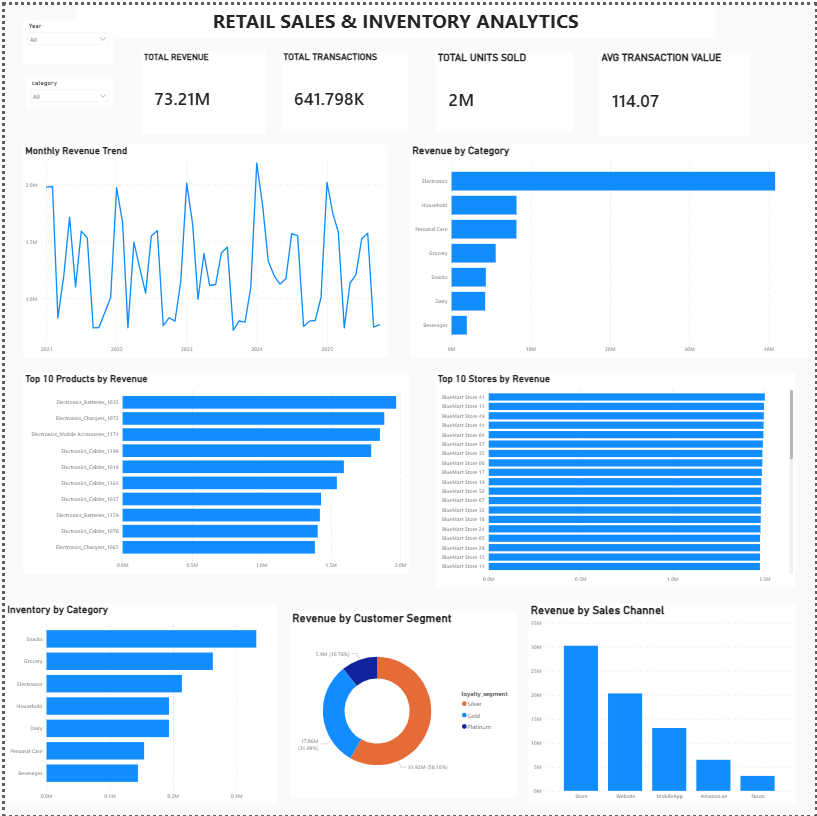

Layout of this report page (visuals, bound fields, positions):
{"tool":"powerbi","page":{"name":"Page 1","canvas":[1800,1800],"ordinal":0},"visuals":[{"type":"cardVisual","title":"TOTAL REVENUE","fields":{"Data":["Sum(retail_analytics fact_sales.total_value)"]},"box":[303.3,103.3,276.7,183.3],"z":0},{"type":"cardVisual","title":"TOTAL TRANSACTIONS","fields":{"Data":["CountNonNull(retail_analytics fact_sales.sale_id)"]},"box":[613.3,103.3,283.3,180],"z":1000},{"type":"cardVisual","title":"TOTAL UNITS SOLD","fields":{"Data":["Sum(retail_analytics fact_sales.quantity)"]},"box":[956.7,103.3,306.7,180],"z":2000},{"type":"cardVisual","title":"AVG TRANSACTION VALUE","fields":{"Data":["Avg(retail_analytics fact_sales.total_value)"]},"box":[1320,103.3,336.7,186.7],"z":3000},{"type":"lineChart","title":"Monthly Revenue Trend","fields":{"Y":["Sum(retail_analytics fact_sales.total_value)"],"Category":["retail_analytics fact_sales.sale_date.Variation.Date Hierarchy.Year","retail_analytics fact_sales.sale_date.Variation.Date Hierarchy.Month"]},"box":[41.2,308.8,809.7,473.5],"z":4000},{"type":"clusteredBarChart","title":"Revenue by Category","fields":{"Category":["retail_analytics dim_sku.category"],"Y":["Sum(retail_analytics fact_sales.total_value)"]},"box":[898.9,308.8,902.3,473.5],"z":5000},{"type":"clusteredBarChart","title":"Top 10 Products by Revenue","fields":{"Category":["retail_analytics dim_sku.sku_name"],"Y":["Sum(retail_analytics fact_sales.total_value)"]},"box":[41.2,816.5,857.7,446],"z":6000},{"type":"clusteredBarChart","title":"Top 10 Stores by Revenue","fields":{"Category":["retail_analytics dim_store.store_name"],"Y":["Sum(retail_analytics fact_sales.total_value)"]},"box":[957.2,816.5,799.4,476.9],"z":7000},{"type":"donutChart","title":"Revenue by Customer Segment","fields":{"Category":["retail_analytics dim_customer.loyalty_segment"],"Y":["Sum(retail_analytics fact_sales.total_value)"]},"box":[634.7,1348.3,504.3,415.1],"z":8000},{"type":"clusteredColumnChart","title":"Revenue by Sales Channel","fields":{"Category":["retail_analytics fact_sales.channel"],"Y":["Sum(retail_analytics fact_sales.total_value)"]},"box":[1163,1331.2,593.5,446],"z":9000},{"type":"clusteredBarChart","title":"Inventory by Category","fields":{"Category":["retail_analytics dim_sku.category"],"Y":["Sum(retail_analytics fact_inventory.stock_on_hand)"]},"box":[0,1331.2,603.8,446],"z":10000},{"type":"textbox","box":[157.8,0,1423.8,75.5],"z":11000},{"type":"slicer","fields":{"Values":["retail_analytics fact_sales.sale_date.Variation.Date Hierarchy.Year"]},"box":[40,33.3,200,96.7],"z":11001},{"type":"slicer","fields":{"Values":["retail_analytics dim_sku.category"]},"box":[46.7,160,193.3,70],"z":11002}]}

Visuals, with their boxes in screenshot pixels (x1, y1, x2, y2), scaled from the page's 1800x1800 canvas onto the 817x816 screenshot:
"TOTAL REVENUE" cardVisual: {"left": 138, "top": 47, "right": 263, "bottom": 130}
"TOTAL TRANSACTIONS" cardVisual: {"left": 278, "top": 47, "right": 407, "bottom": 128}
"TOTAL UNITS SOLD" cardVisual: {"left": 434, "top": 47, "right": 573, "bottom": 128}
"AVG TRANSACTION VALUE" cardVisual: {"left": 599, "top": 47, "right": 752, "bottom": 131}
"Monthly Revenue Trend" lineChart: {"left": 19, "top": 140, "right": 386, "bottom": 355}
"Revenue by Category" clusteredBarChart: {"left": 408, "top": 140, "right": 816, "bottom": 355}
"Top 10 Products by Revenue" clusteredBarChart: {"left": 19, "top": 370, "right": 408, "bottom": 572}
"Top 10 Stores by Revenue" clusteredBarChart: {"left": 434, "top": 370, "right": 797, "bottom": 586}
"Revenue by Customer Segment" donutChart: {"left": 288, "top": 611, "right": 517, "bottom": 799}
"Revenue by Sales Channel" clusteredColumnChart: {"left": 528, "top": 603, "right": 797, "bottom": 806}
"Inventory by Category" clusteredBarChart: {"left": 0, "top": 603, "right": 274, "bottom": 806}
textbox: {"left": 72, "top": 0, "right": 718, "bottom": 34}
slicer - retail_analytics fact_sales.sale_date.Variation.Date Hierarchy.Year: {"left": 18, "top": 15, "right": 109, "bottom": 59}
slicer - retail_analytics dim_sku.category: {"left": 21, "top": 73, "right": 109, "bottom": 104}
